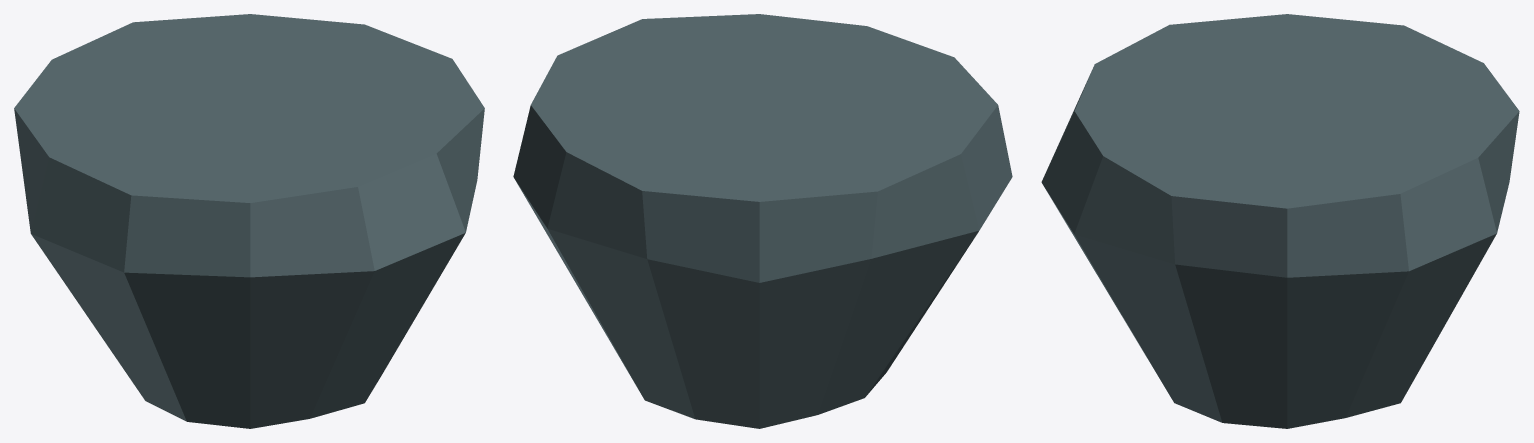
The model's file is island.glb.
The picture shows the model from 3 angles, left to right: view 1: azimuth 30°, elevation 25°; view 2: azimuth 150°, elevation 25°; view 3: azimuth 270°, elevation 25°; orthographic projection.
Parts seen in each view (by area): view 1: Floating basalt island; view 2: Floating basalt island; view 3: Floating basalt island.
Part boxes in pixels (x1=…): Floating basalt island: x1=14, y1=14, x2=484, y2=428; Floating basalt island: x1=513, y1=14, x2=1012, y2=428; Floating basalt island: x1=1041, y1=14, x2=1519, y2=428.
Bounding box in the file's own units: 2.15 × 1.3 × 2.13.
